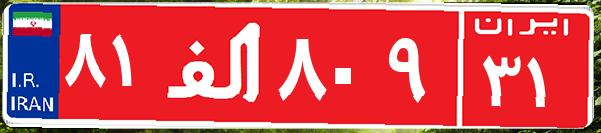0: (330, 28, 385, 110)
1: (110, 28, 158, 105), (525, 38, 570, 115)
3: (475, 38, 525, 113)
8: (273, 28, 330, 110), (57, 26, 110, 107)
9: (385, 28, 445, 110)
الف: (158, 15, 273, 115)
